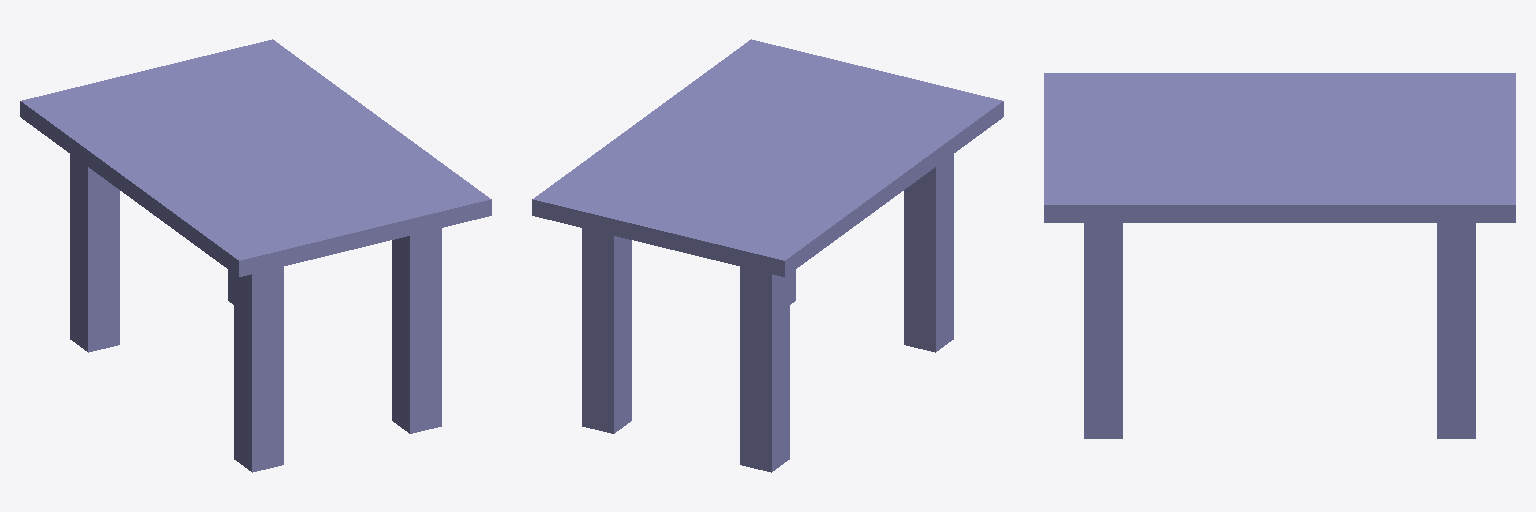
robot.urdf — robot_movable_table:
<?xml version="1.0" encoding="utf-8"?>
<!-- This URDF was automatically created by SolidWorks to URDF Exporter! Originally created by [author] ([email redacted])
     Commit Version: 1.5.1-0-g916b5db  Build Version: 1.5.7152.31018
     For more information, please see http://wiki.ros.org/sw_urdf_exporter -->
<robot
  name="robot_movable_table">
  <link
    name="robot_movable_table">
    <inertial>
      <origin
        xyz="0 0 0.655"
        rpy="0 0 1.5707963267949" />
      <mass
        value="74.2" />
      <inertia
        ixx="7.272"
        ixy="2.4411E-16"
        ixz="-1.9516E-15"
        iyy="15.307"
        iyz="-4.91505780745536E-16"
        izz="14.14" />
    </inertial>
    <visual>
      <origin
        xyz="0 0 0.655"
        rpy="0 0 1.5707963267949" />
      <geometry>
        <mesh
          filename="package://dual_description/meshes/robot_movable_table.STL" />
      </geometry>
      <material
        name="">
        <color
          rgba="0.6 0.6 0.8 1" />
      </material>
    </visual>
    <collision>
      <origin
        xyz="0 0 0.655"
        rpy="0 0 1.5707963267949" />
      <geometry>
        <mesh
          filename="package://dual_description/meshes/robot_movable_table.STL" />
      </geometry>
    </collision>
  </link>
</robot>

--- Render facts (derived) ---
3 views of the same robot in one strip: view 1: azimuth 30°, elevation 25°; view 2: azimuth 150°, elevation 25°; view 3: azimuth 270°, elevation 25° (orthographic).
Robot: robot_movable_table — 1 links, 0 joints (none); root link robot_movable_table; default pose: all joints at 0.
Visible links, largest first — view 1: robot_movable_table; view 2: robot_movable_table; view 3: robot_movable_table.
Link boxes in pixels (x1,y1,x2,y2): robot_movable_table: (20, 39, 491, 472); robot_movable_table: (532, 39, 1003, 472); robot_movable_table: (1044, 73, 1515, 438).
Size in the robot's own frame: 0.8 by 1.2 by 0.705 metres.
1 mesh visuals loaded from 1 distinct referenced files (1 binary STL).